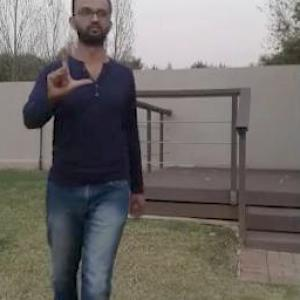land_hand: (42, 38, 93, 100)
